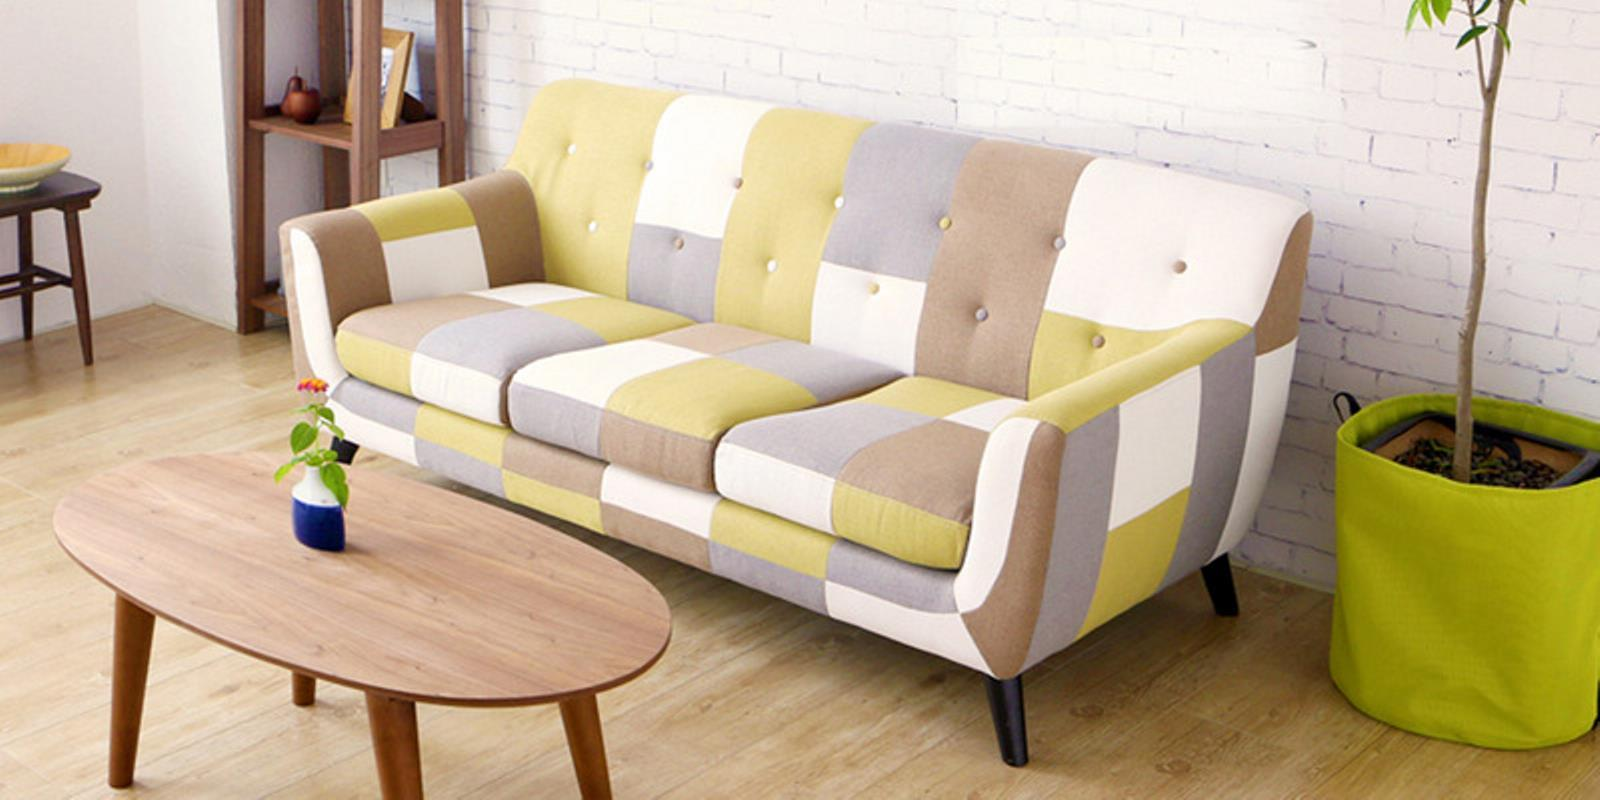Frida Three Seater Sofa in Yellow Multi Colour by CasaCraft: (247, 58, 1329, 774)
